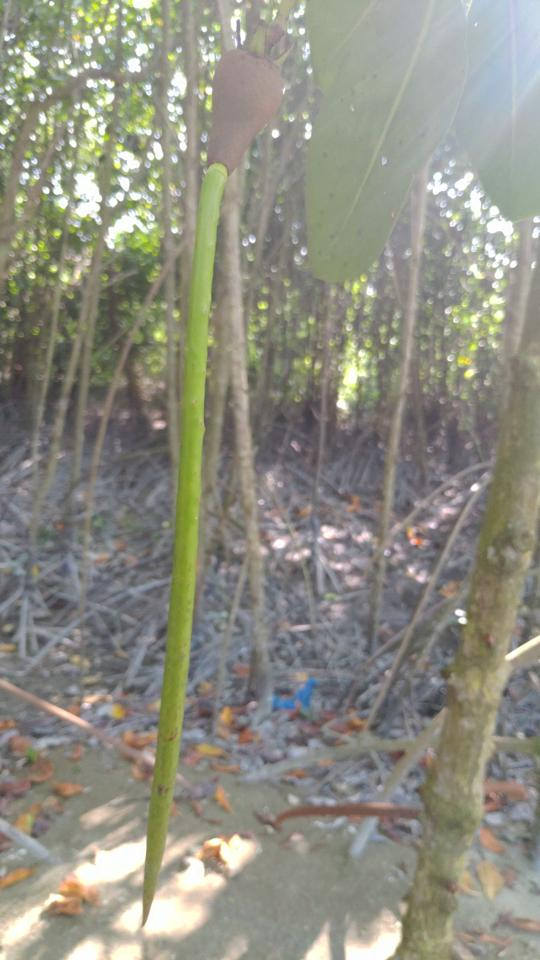setengah matang: (130, 19, 304, 933)
